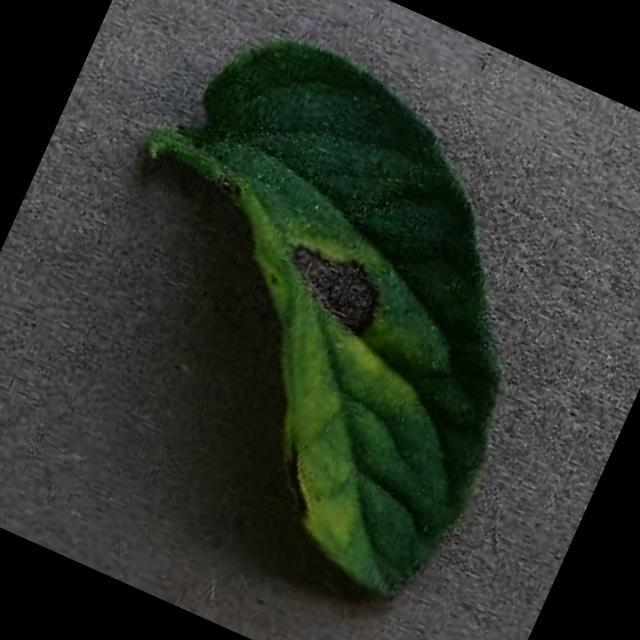Tomato Early blight leaf: (12, 0, 610, 625)
